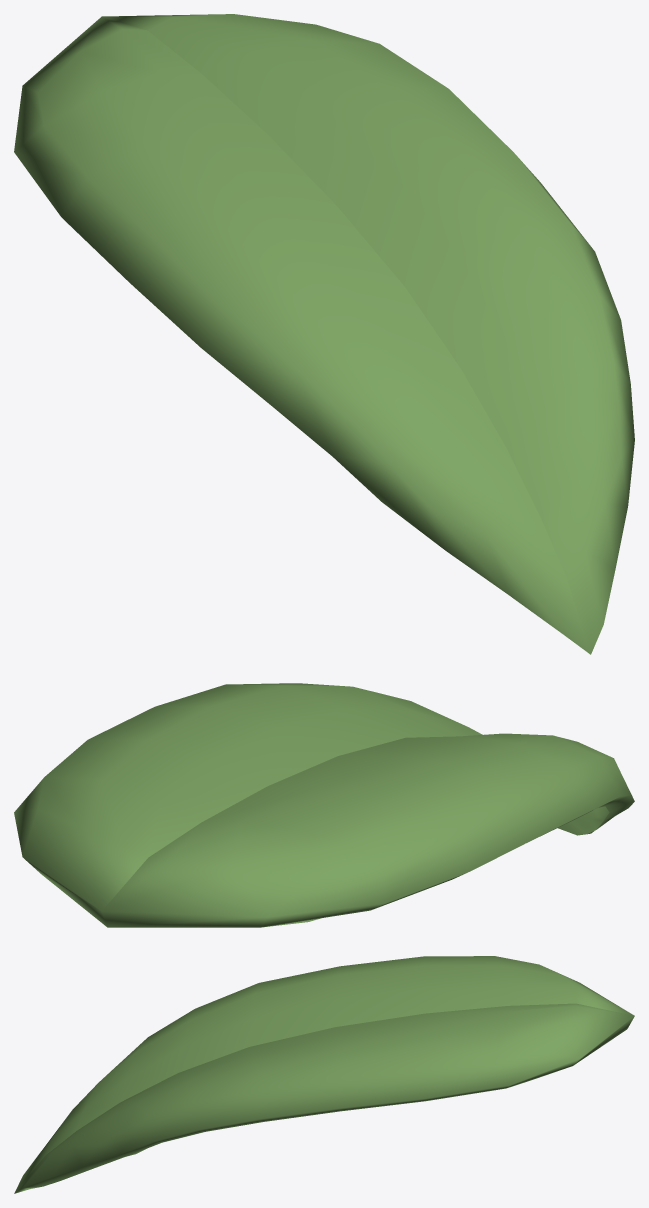
Rendered from MOD_BigLeaf04.fbx.
3 renders of one model, top to bottom at view 1: azimuth 30°, elevation 25°; view 2: azimuth 150°, elevation 25°; view 3: azimuth 270°, elevation 25°, orthographic. The views are drawn at different scales.
Parts seen in each view (by area): view 1: MOD_BigLeaf4; view 2: MOD_BigLeaf4; view 3: MOD_BigLeaf4.
Part boxes in pixels (x1,y1,x2,y2): MOD_BigLeaf4: (14, 14, 634, 654); MOD_BigLeaf4: (14, 683, 634, 927); MOD_BigLeaf4: (14, 956, 634, 1193).
Size of the model in its own units: 5.64 by 4.04 by 11.63.
